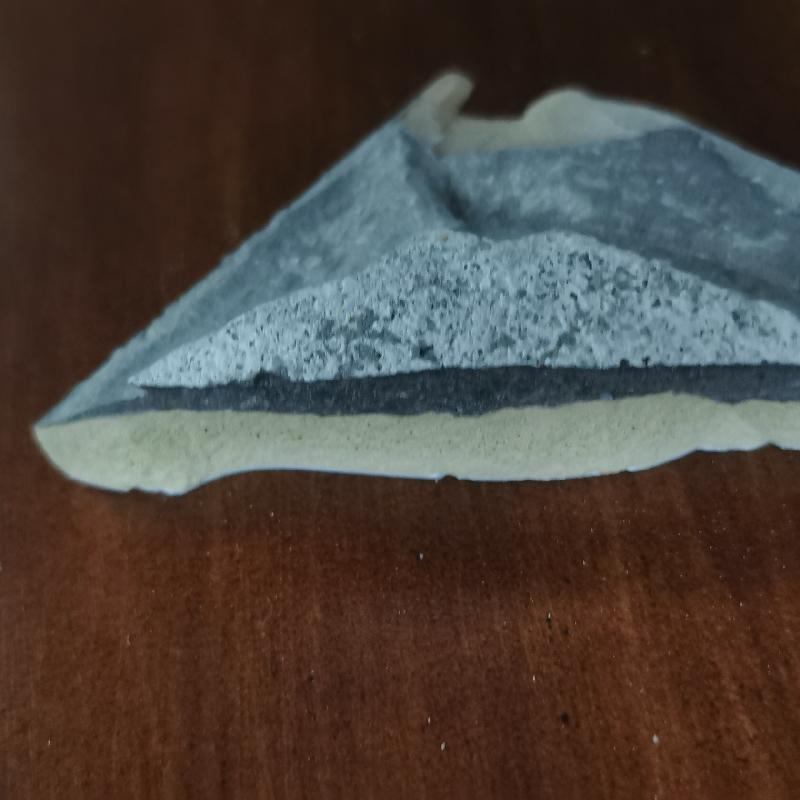tile: (26, 69, 799, 498)
